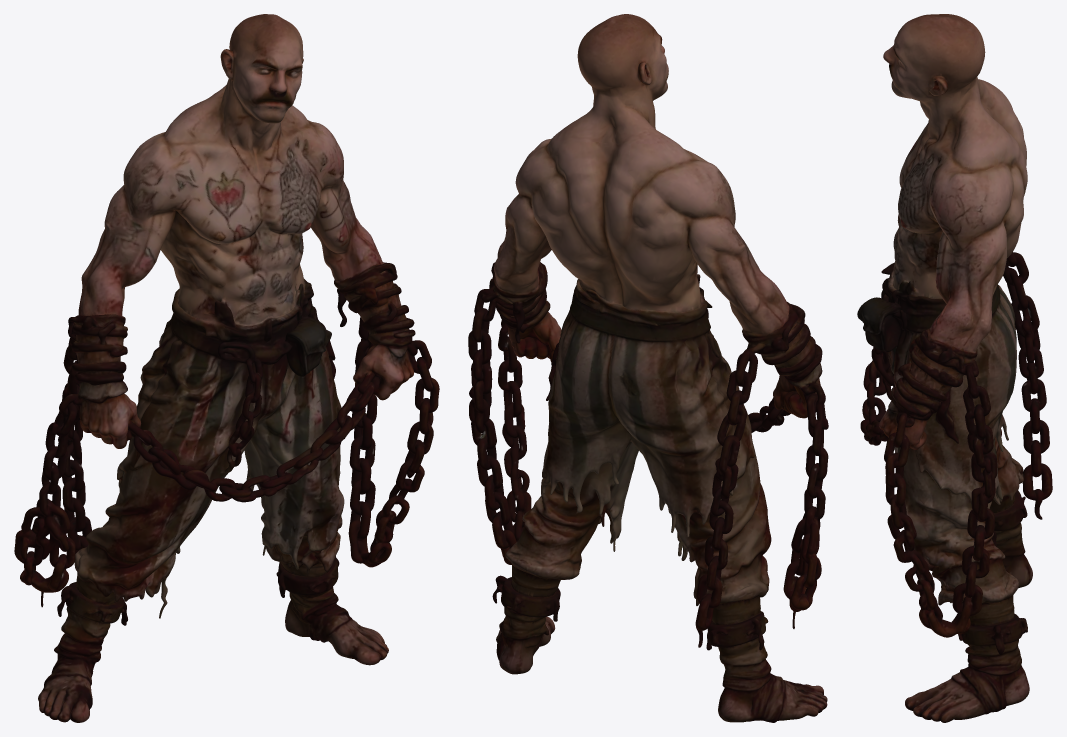
File: prisoner.glb
3 renders of one model, left to right at view 1: azimuth 30°, elevation 25°; view 2: azimuth 150°, elevation 25°; view 3: azimuth 270°, elevation 25°, orthographic. The views are drawn at different scales.
Visible parts, largest first — view 1: tripo_node_2a5a68f2-0096-42e4-9c3e-cce9d86aa4ab; view 2: tripo_node_2a5a68f2-0096-42e4-9c3e-cce9d86aa4ab; view 3: tripo_node_2a5a68f2-0096-42e4-9c3e-cce9d86aa4ab.
Boxes of the visible parts, x1=… form: tripo_node_2a5a68f2-0096-42e4-9c3e-cce9d86aa4ab: x1=14, y1=14, x2=439, y2=722; tripo_node_2a5a68f2-0096-42e4-9c3e-cce9d86aa4ab: x1=468, y1=14, x2=828, y2=722; tripo_node_2a5a68f2-0096-42e4-9c3e-cce9d86aa4ab: x1=857, y1=14, x2=1052, y2=722.
Size of the model in its own units: 0.5886 by 1 by 0.2708.
Materials: 1 (1 with a texture image).
